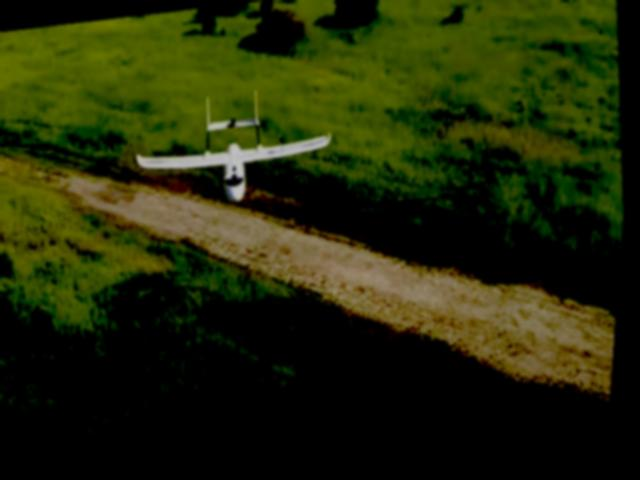iha: (130, 83, 340, 210)
